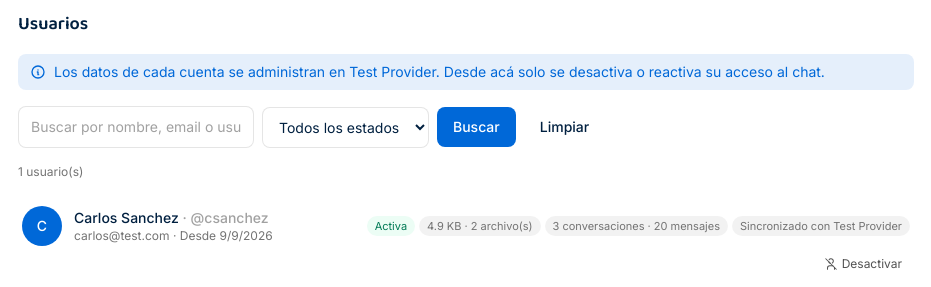
AdminUsersPanel › renders users and handles search submit and clear
Check: the text "Carlos Sanchez" is shown, box 74,209 -> 179,226
Check: the text "1 usuario(s)" is shown, box 18,164 -> 83,179
Type "Carlos" into the field with placeholder "Buscar por nombre, email o usuario" at [136, 127], box 18,106 -> 254,148
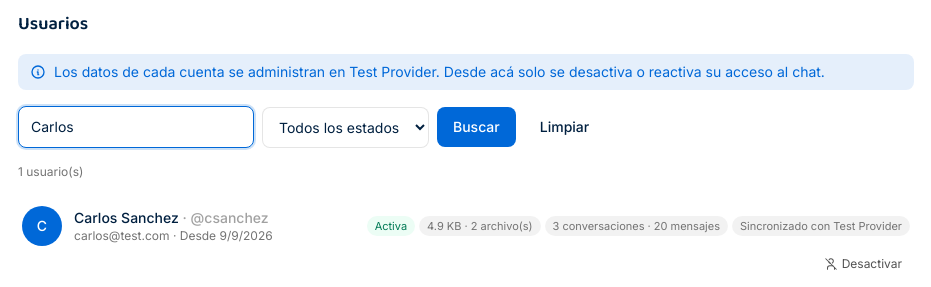
Click the button "Buscar" at [476, 127], box 437,107 -> 516,147
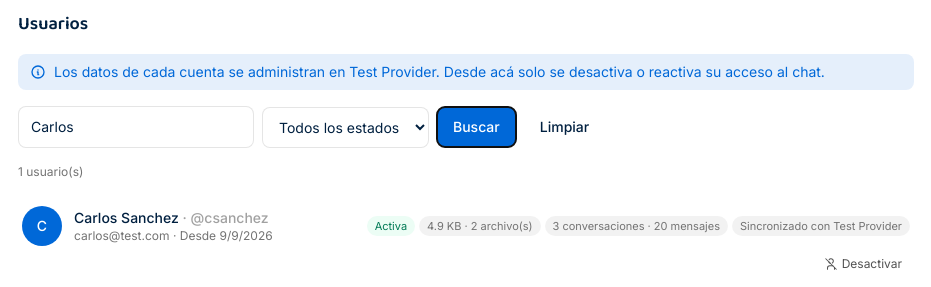
Click the button "Limpiar" at [564, 127], box 524,107 -> 605,147
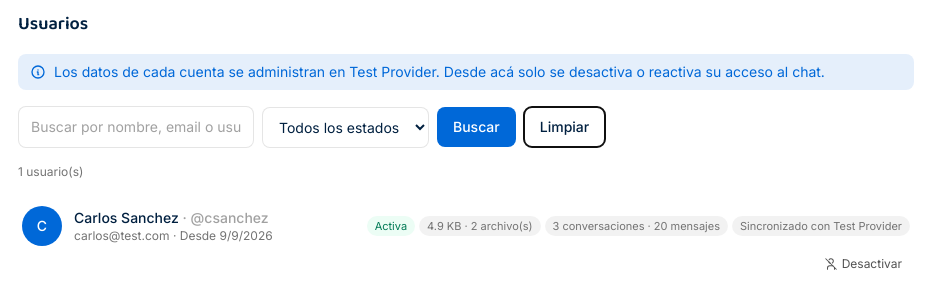
Check: the field with placeholder "Buscar por nombre, email o usuario" is empty, box 18,106 -> 254,148
